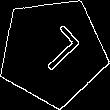L_SW: (24, 23, 81, 80)
